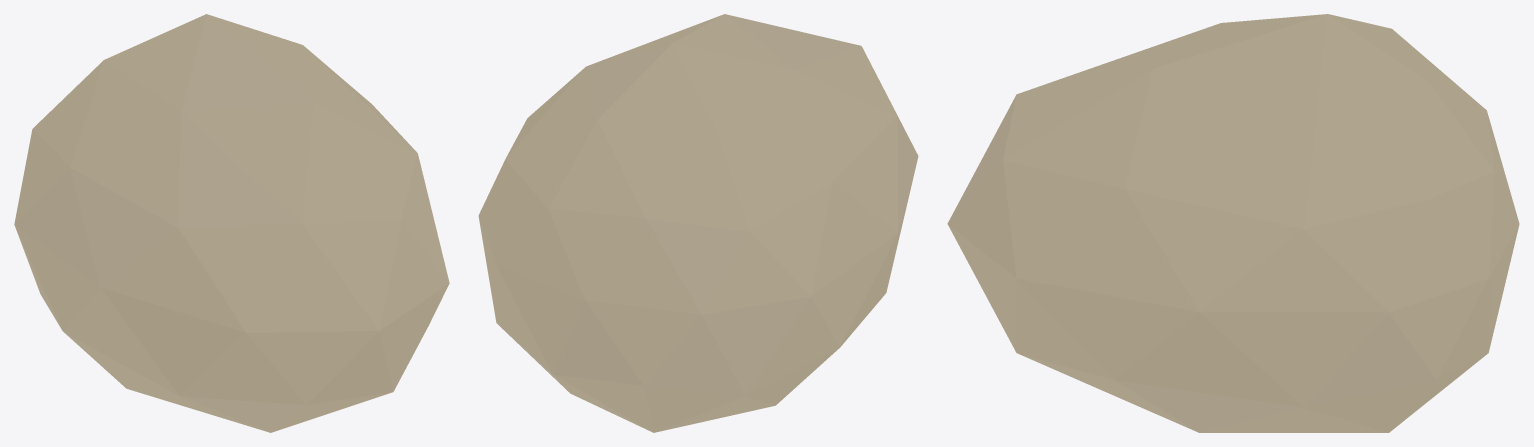
File: rock_type_04.glb
3 views of the same model, side by side, from view 1: azimuth 30°, elevation 25°; view 2: azimuth 150°, elevation 25°; view 3: azimuth 270°, elevation 25° (orthographic). The views are drawn at different scales.
Parts seen in each view (by area): view 1: rock_1; view 2: rock_1; view 3: rock_1.
Part boxes in pixels (x1,y1,x2,y2): rock_1: (14, 14, 449, 432); rock_1: (478, 14, 918, 432); rock_1: (947, 14, 1519, 432).
Size of the model in its own units: 1.9 by 2.05 by 2.6.
